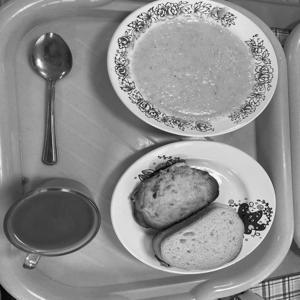bread: (151, 204, 256, 278)
cheese_sandwich: (132, 156, 222, 235)
coffee: (4, 163, 106, 271)
porridge: (130, 19, 264, 124)
